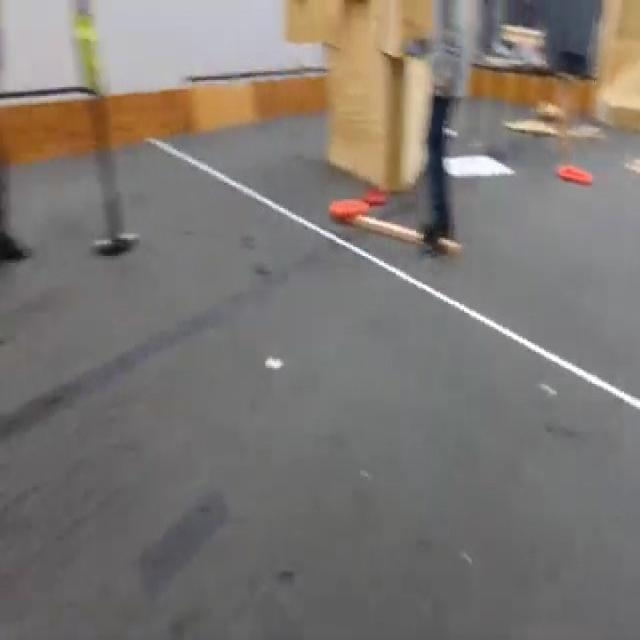note: (329, 195, 370, 220), (557, 166, 593, 188)
